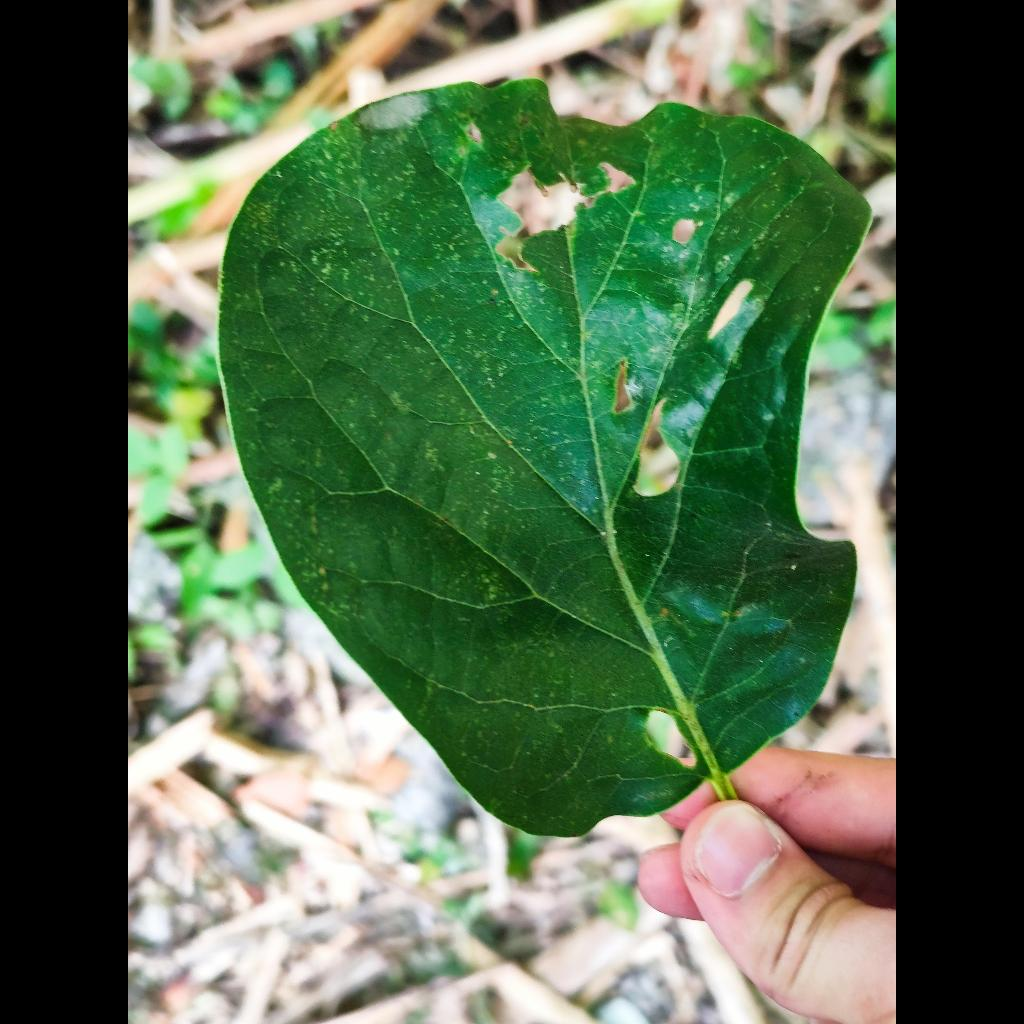plaga: (218, 81, 869, 836)
